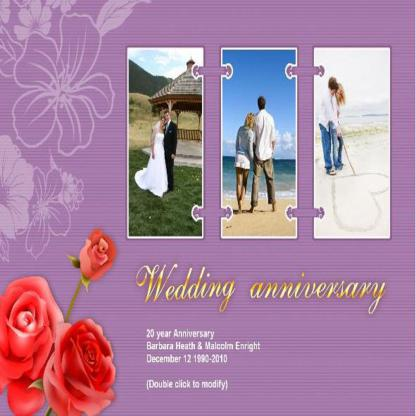face: (165, 114, 170, 122), (338, 93, 343, 100), (162, 119, 166, 127), (331, 90, 336, 96)
